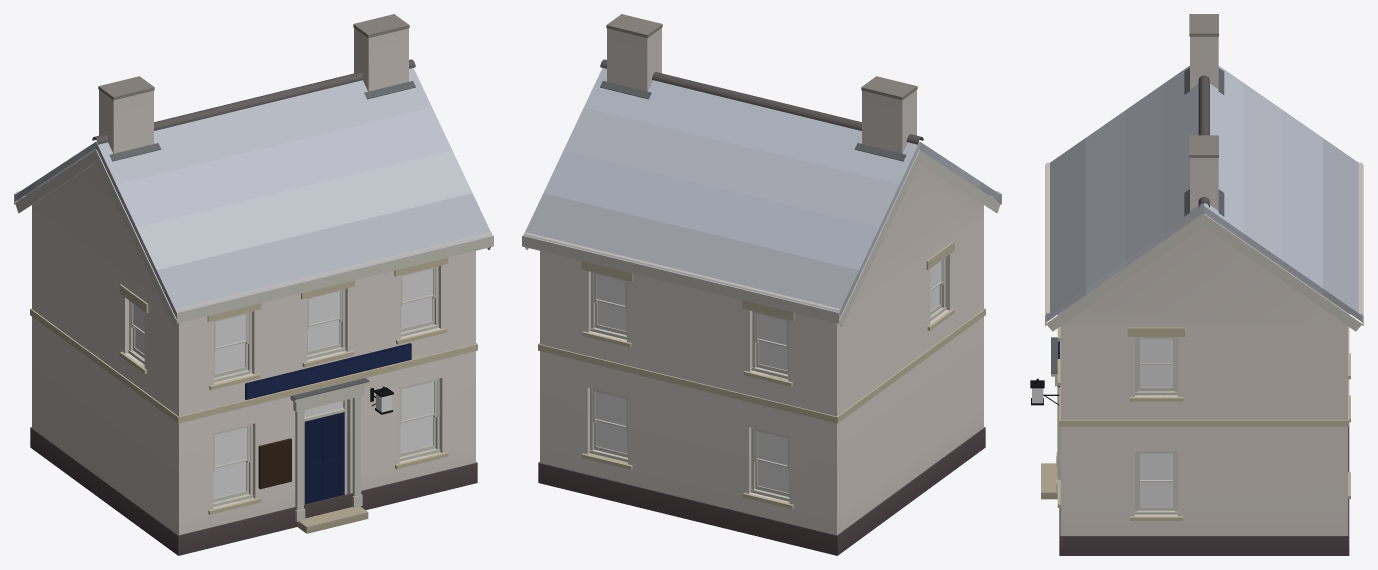
File: town_police_house_a_lod2.glb
The picture shows the model from 3 angles, left to right: view 1: azimuth 30°, elevation 25°; view 2: azimuth 150°, elevation 25°; view 3: azimuth 270°, elevation 25°; orthographic projection. The views are drawn at different scales.
Visible parts, largest first — view 1: body, door; view 2: body; view 3: body.
Part boxes in pixels (left/top/right/bottom): body: left=14, top=14, right=493, bottom=555; door: left=304, top=412, right=344, bottom=504; body: left=522, top=14, right=1001, bottom=555; body: left=1041, top=14, right=1363, bottom=555.
Size of what is drawn, in the model's own units: 7.48 by 9.22 by 6.95.
